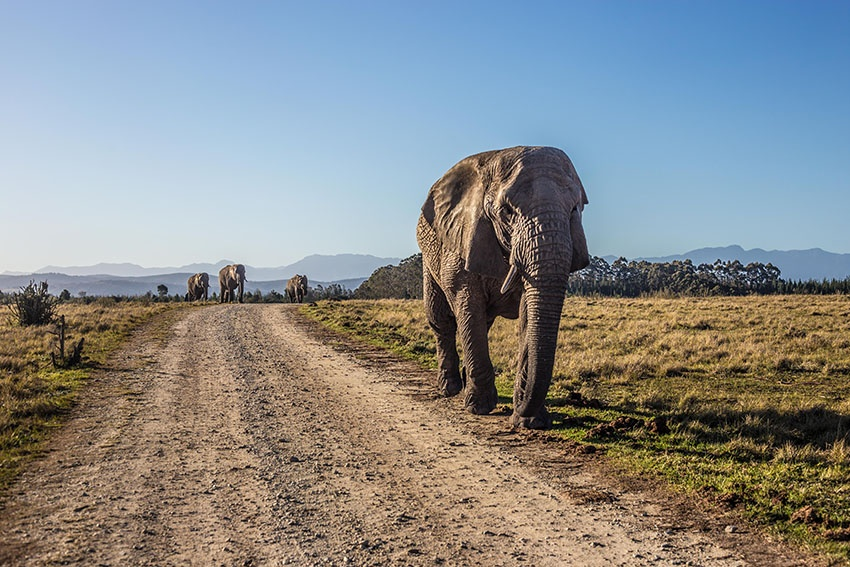elephant: (507, 283, 673, 567)
